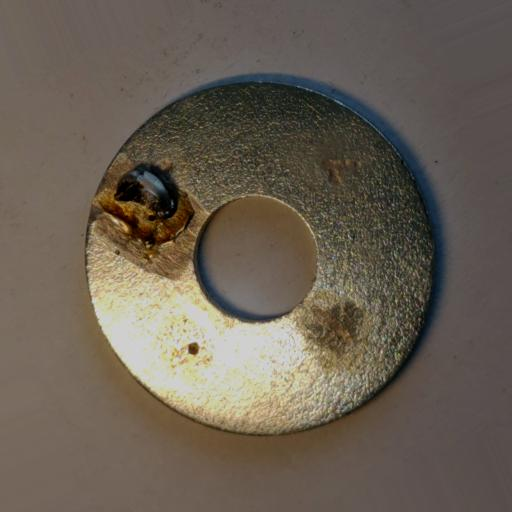excess_material: (97, 161, 194, 248)
